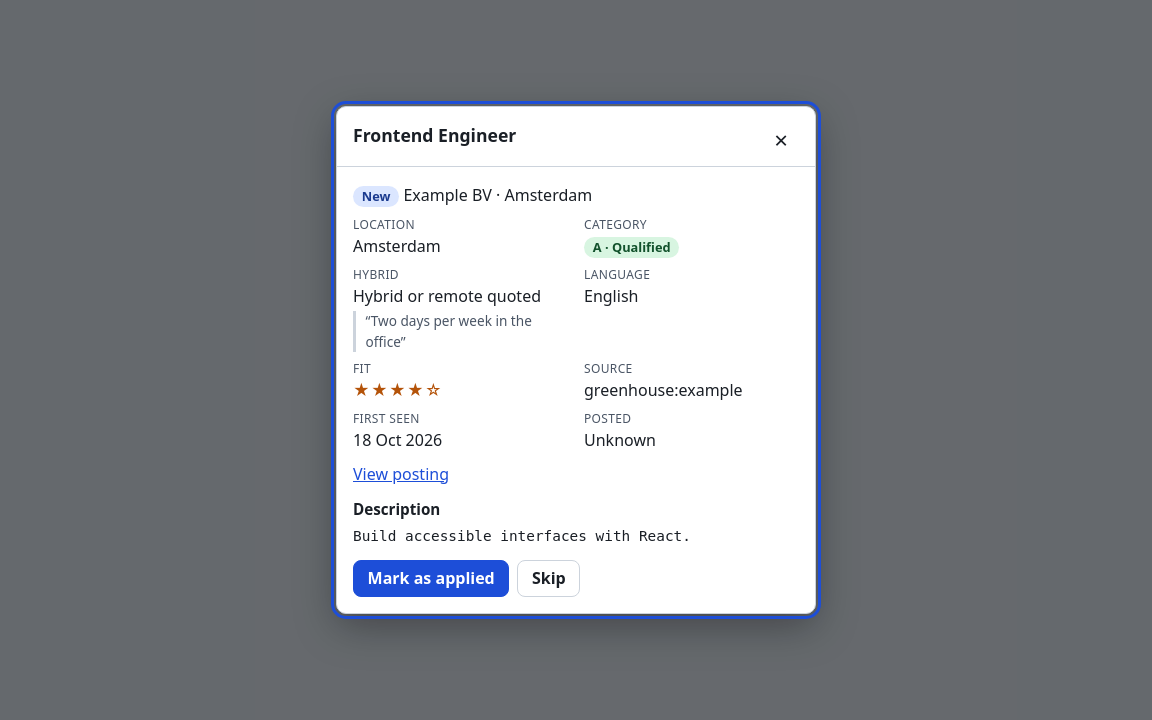
Test case: JobDetailDialog › shows the error of a failed status change and keeps the dialog
This screenshot has width=1152, height=720.
Click the button "Skip" at {"x": 549, "y": 578}, box [517,560,580,597]
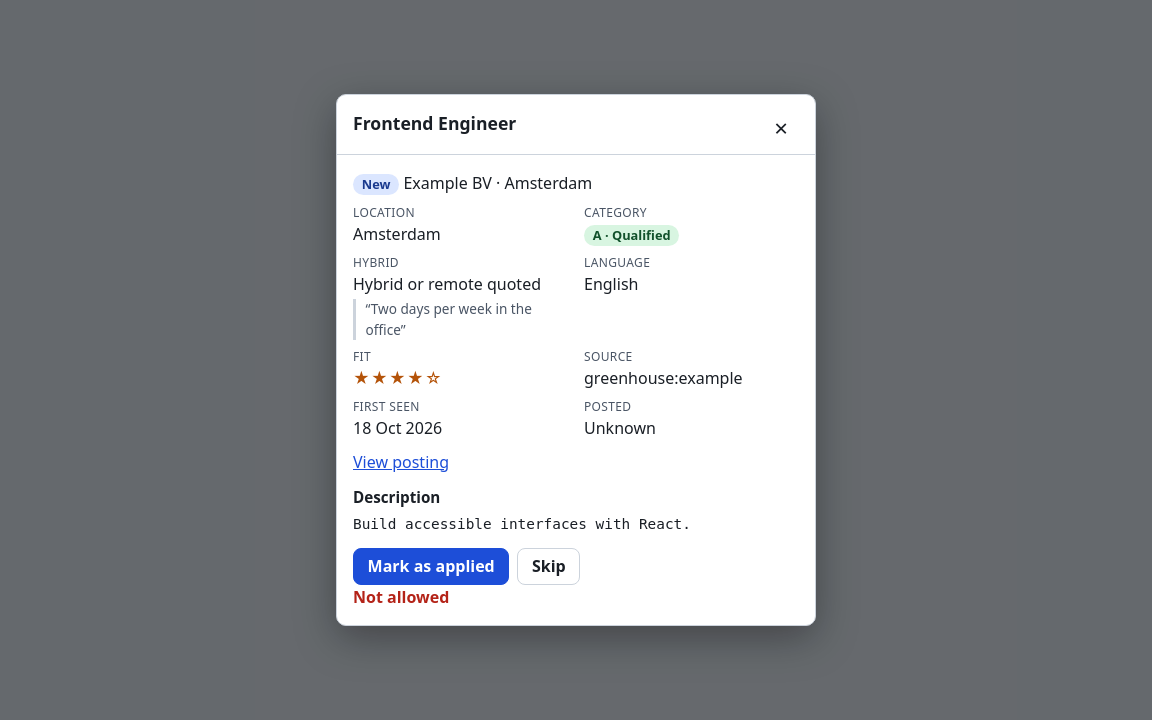
expect the message reads "Not allowed": met, box [353,586,449,608]
